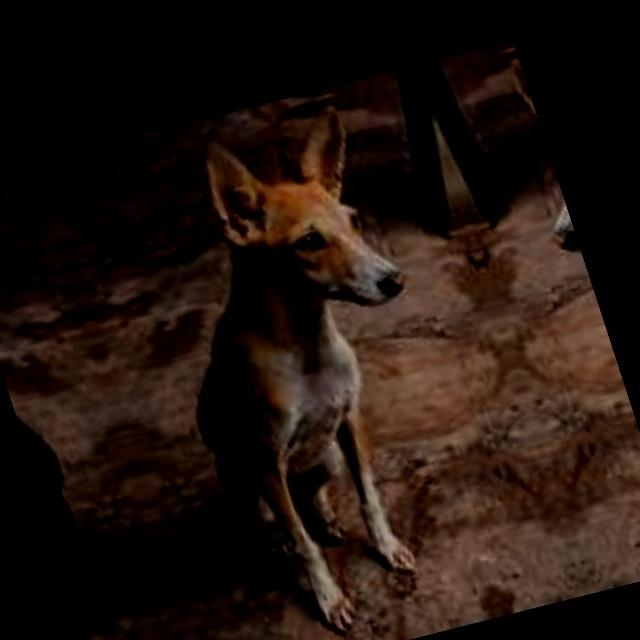dog: (93, 118, 546, 640), (474, 82, 640, 584), (0, 213, 166, 640)
